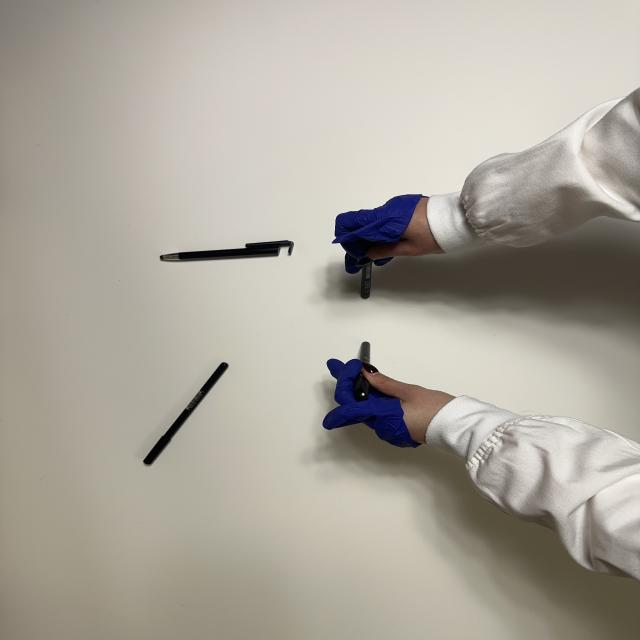glove_partial: (318, 354, 461, 452), (327, 192, 452, 276)
